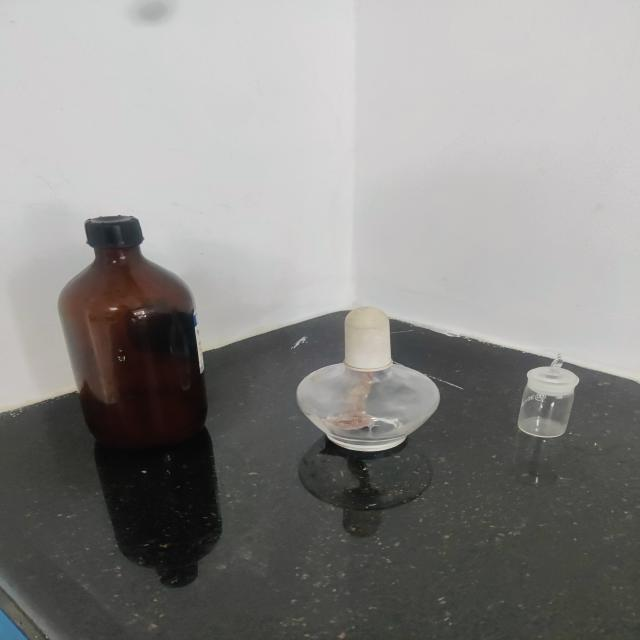Nessler_Reagent_Bottle: (37, 214, 216, 461)
Spirit_Lamp: (285, 289, 439, 472)
Weighing_Bottle: (505, 338, 578, 460)
